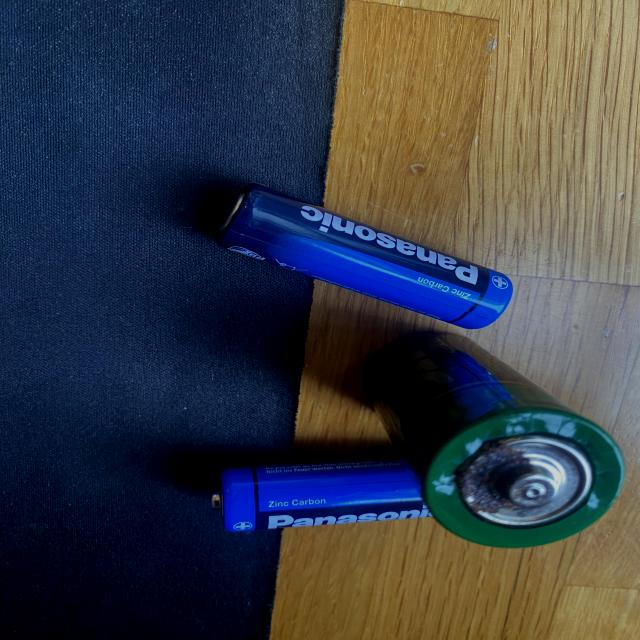AA: (213, 179, 517, 334)
